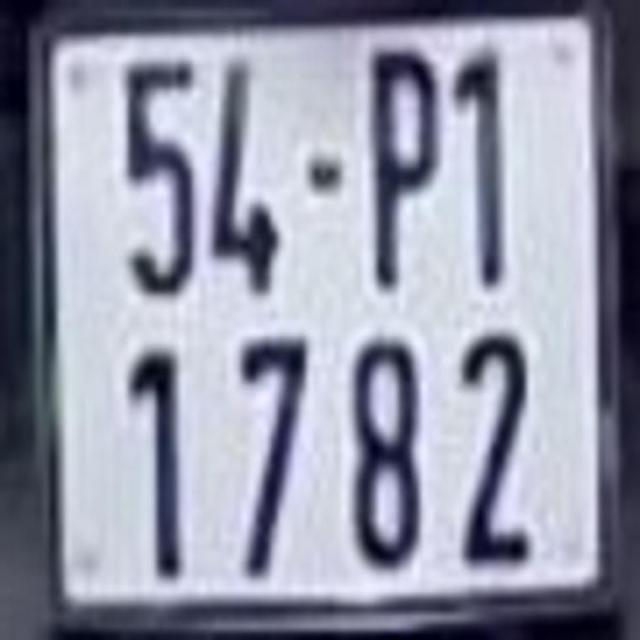1: (126, 342, 183, 575), (456, 50, 508, 281)
2: (461, 332, 534, 562)
4: (210, 59, 284, 295)
5: (121, 51, 196, 288)
7: (238, 328, 311, 588)
8: (354, 337, 424, 570)
P: (369, 47, 442, 300)
